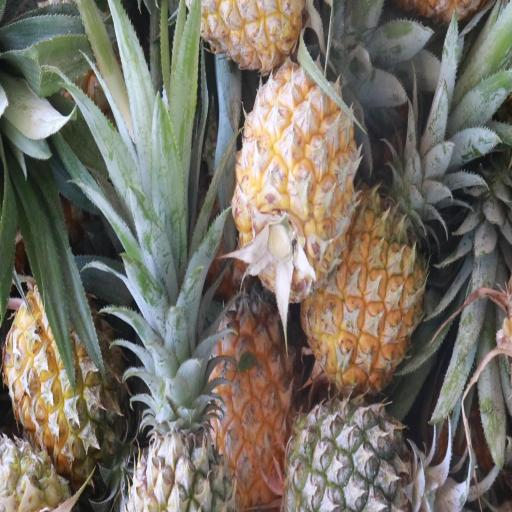------------------------------: (6, 279, 126, 471)
Pineapple - v8 v1: (236, 65, 356, 301), (304, 188, 424, 388), (208, 284, 298, 505)
